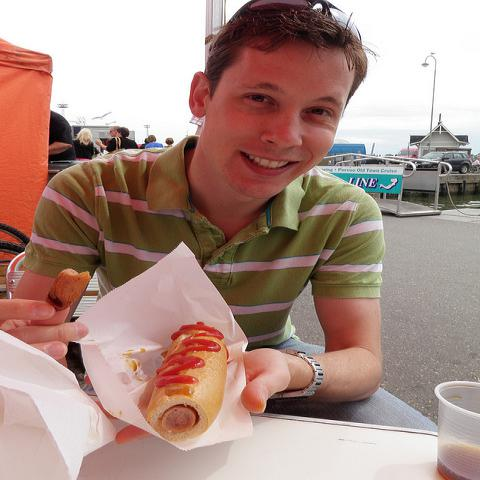car: (402, 151, 473, 174), (394, 147, 418, 158), (365, 160, 380, 164)
